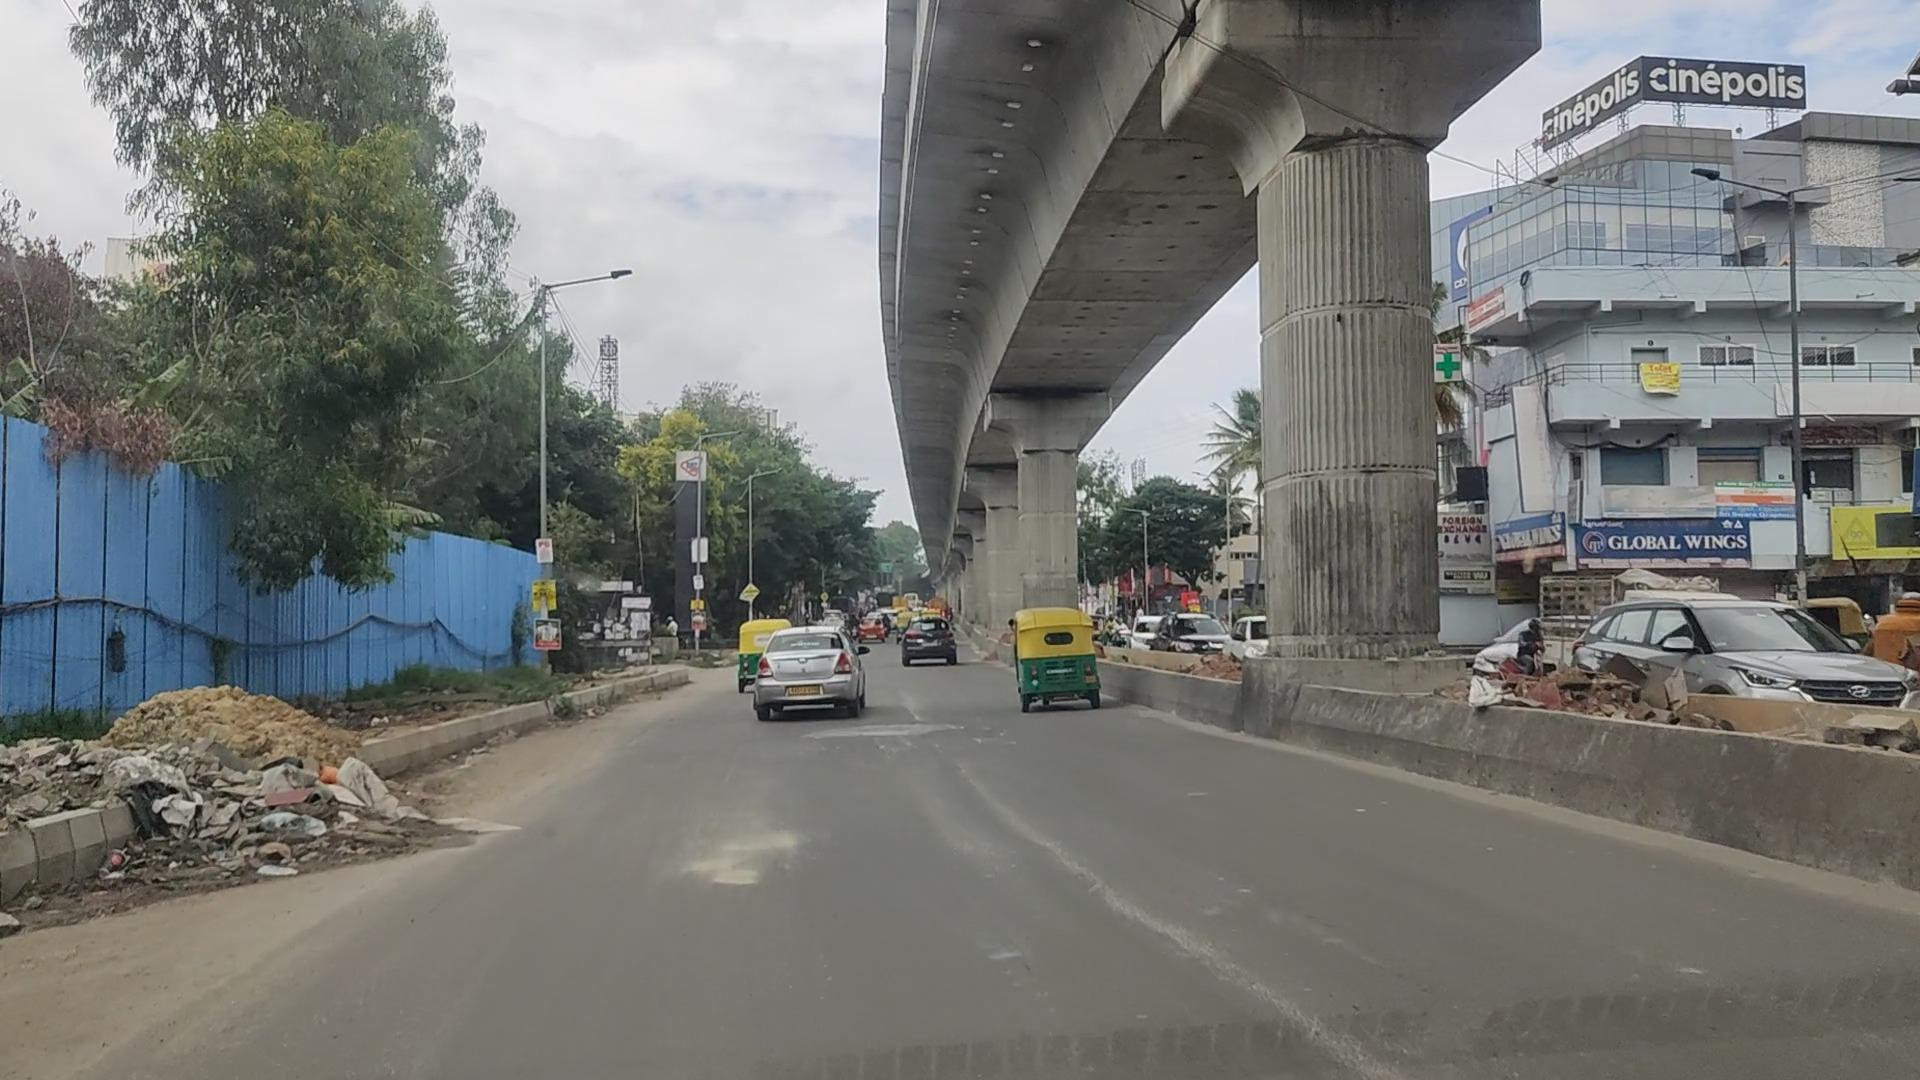LMV: (758, 621, 872, 725), (1010, 607, 1105, 717)
